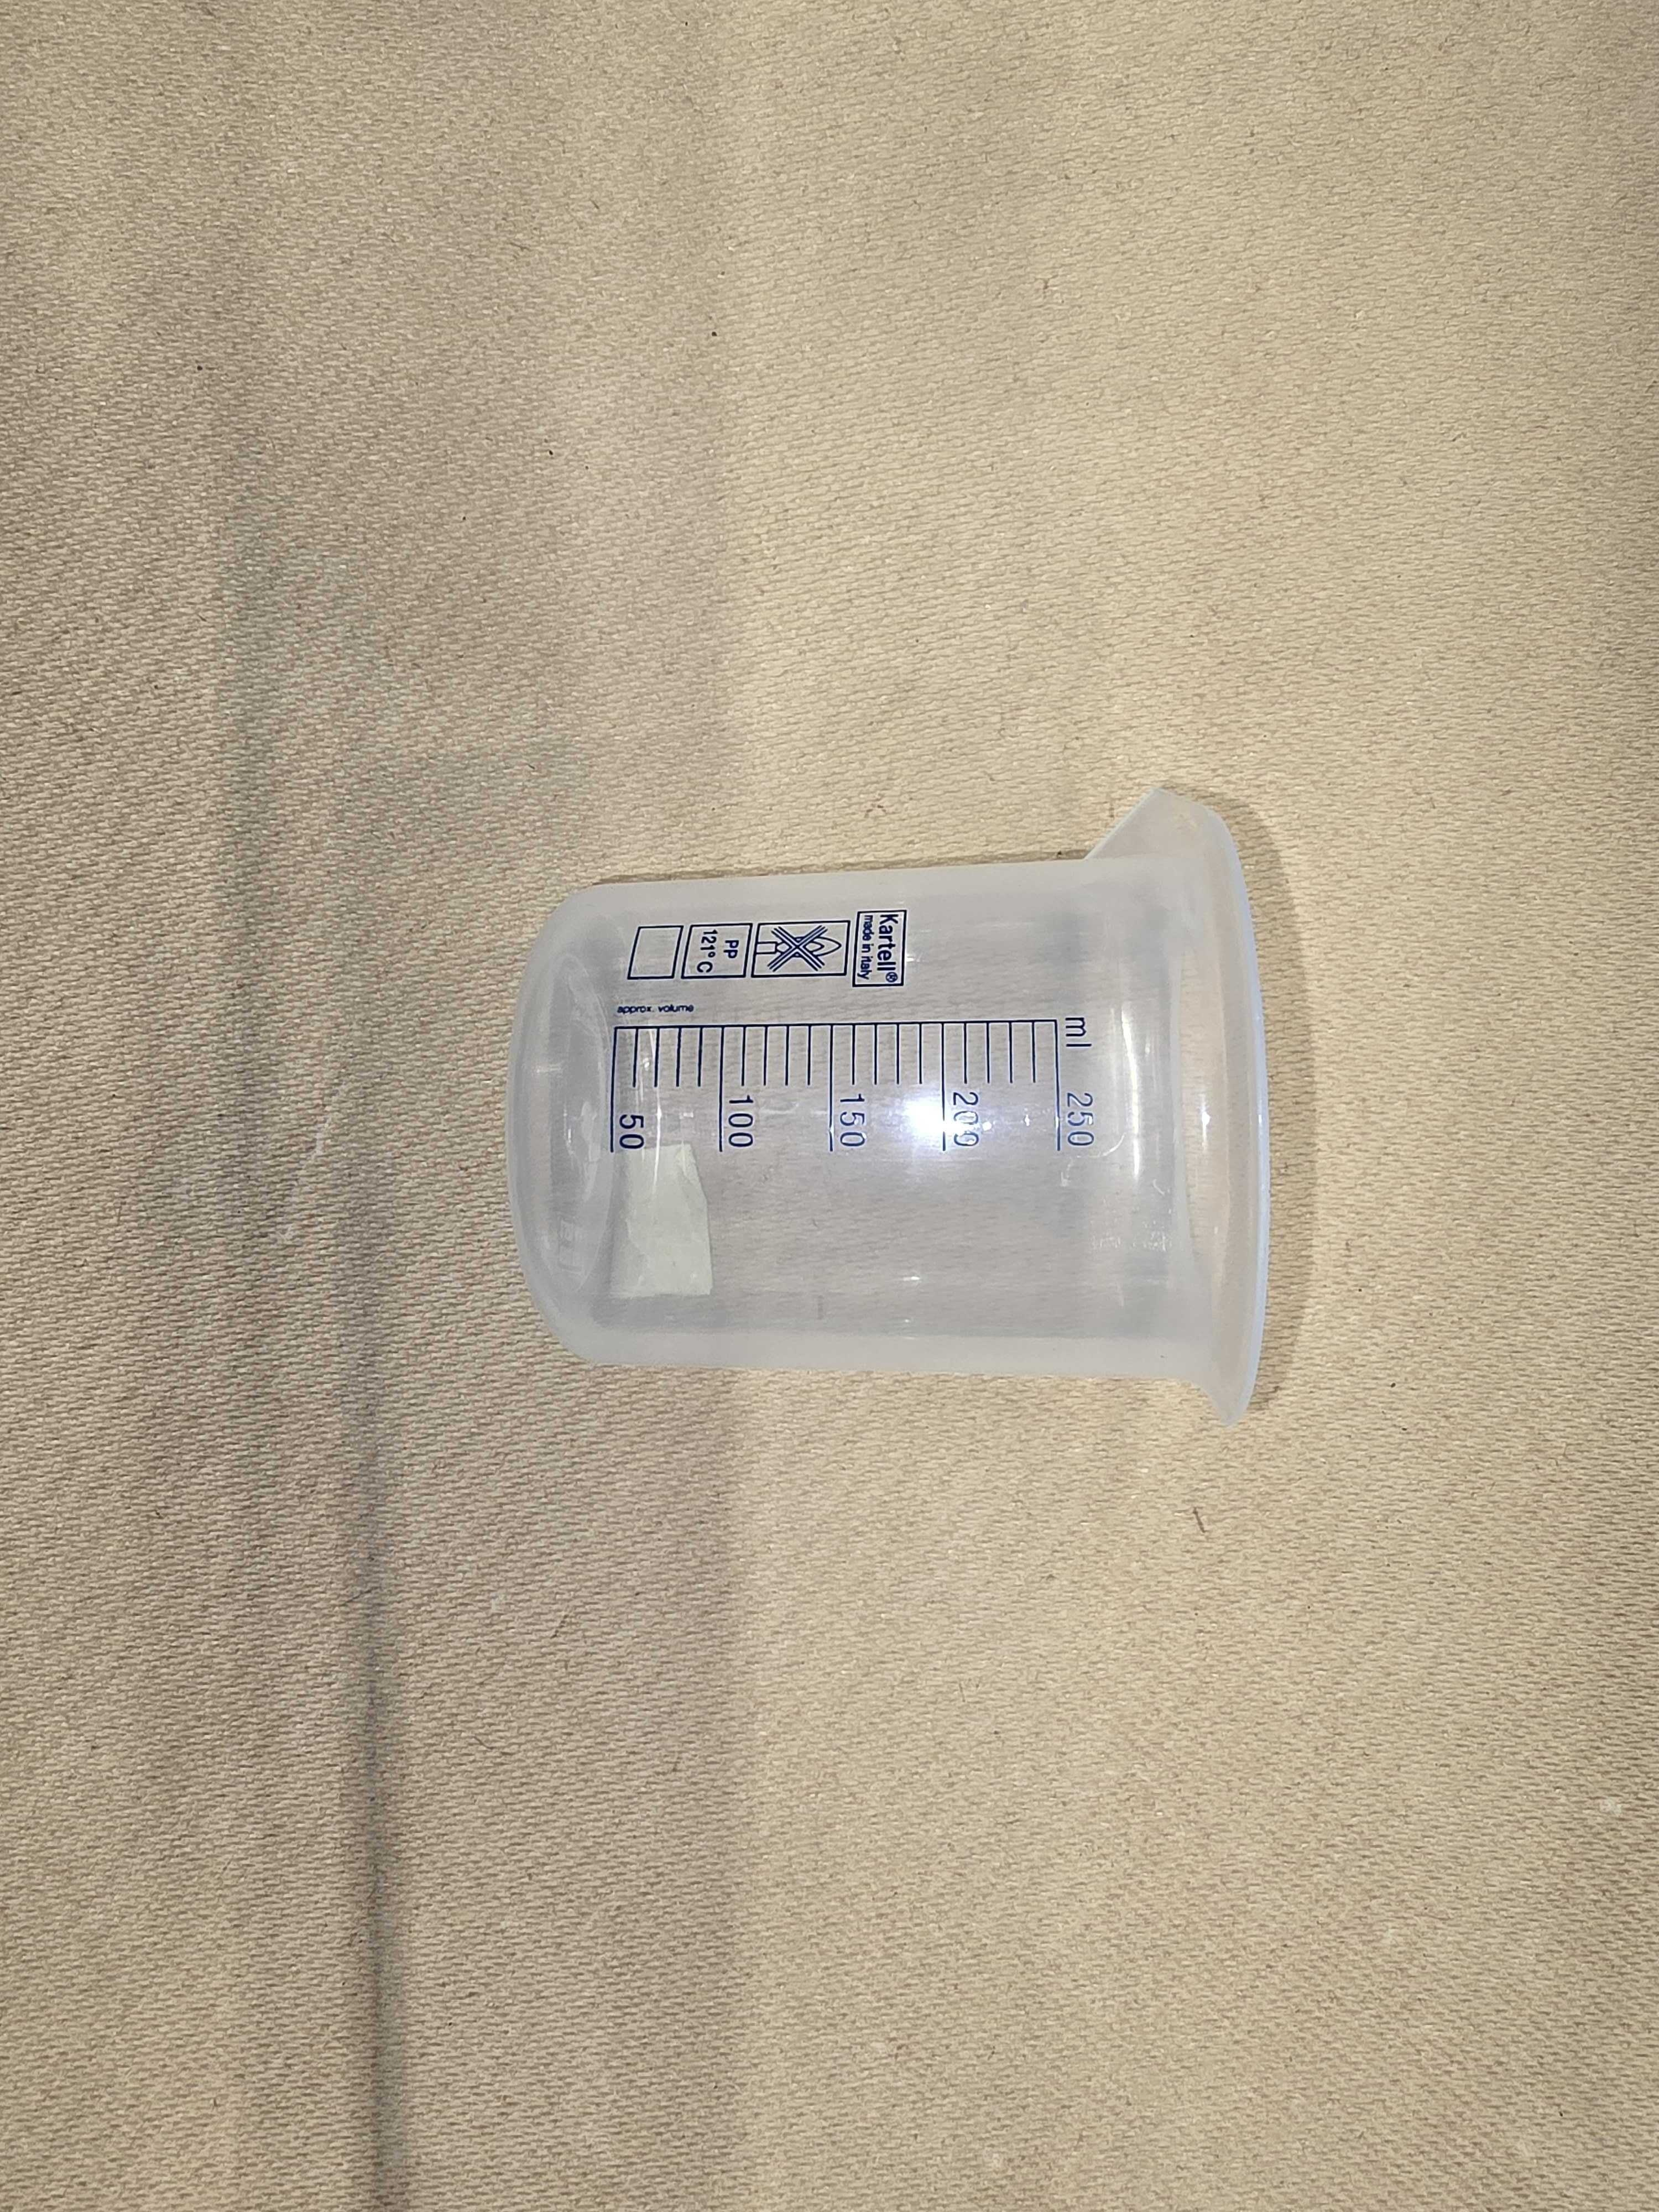becker: (505, 789, 1274, 1426)
